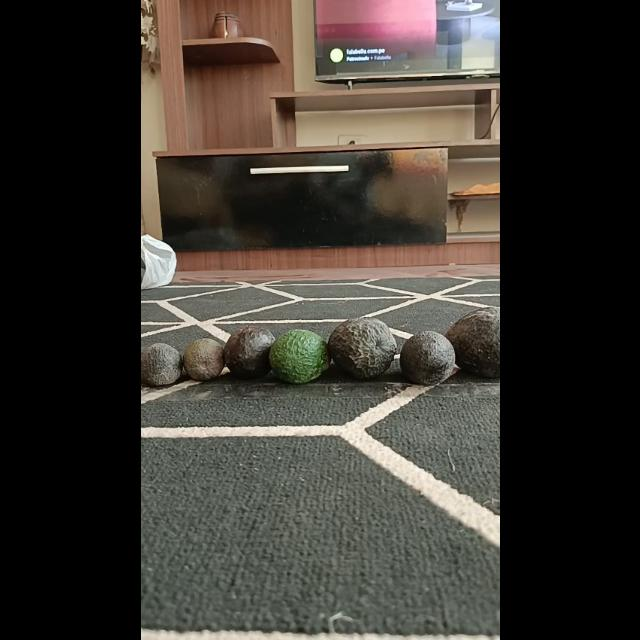Primera: (327, 316, 397, 378), (442, 306, 498, 378)
Segunda: (268, 329, 328, 383), (399, 331, 456, 385), (222, 324, 276, 378)
Tercera: (140, 343, 182, 387), (182, 338, 224, 380)
